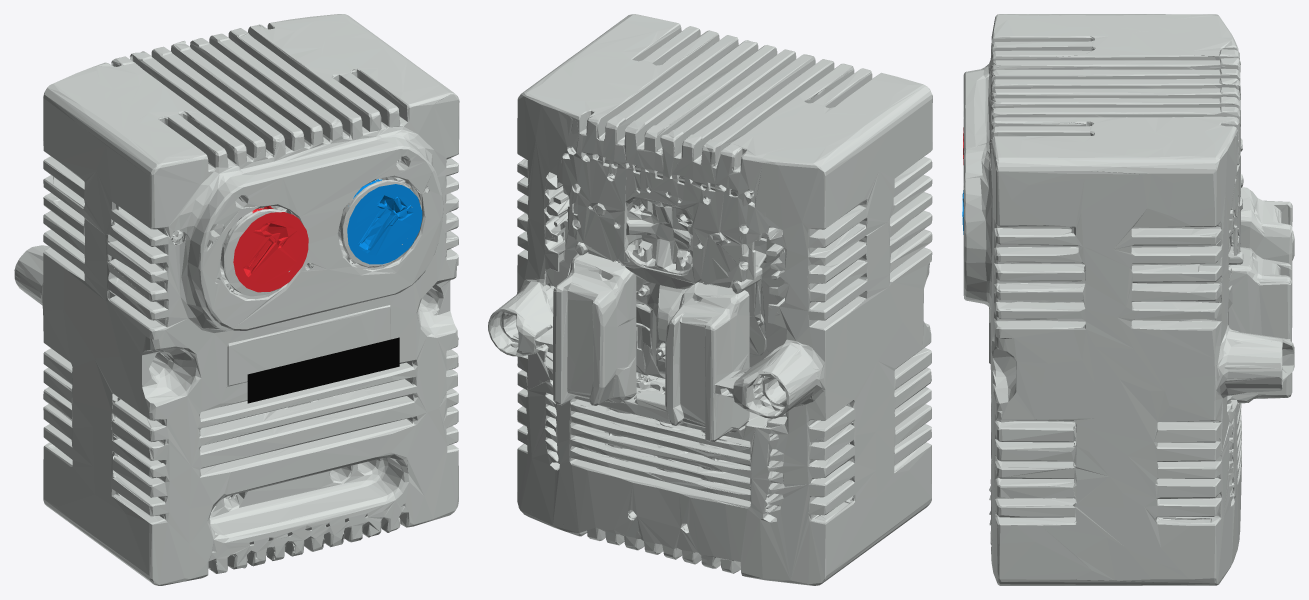
File: thermostat_colored_web.glb
3 views of the same model, side by side, from view 1: azimuth 30°, elevation 25°; view 2: azimuth 150°, elevation 25°; view 3: azimuth 270°, elevation 25° (orthographic).
Parts seen in each view (by area): view 1: Mesh1.0; view 2: Mesh1.0; view 3: Mesh1.0.
Part boxes in pixels (x1,y1,x2,y2): Mesh1.0: [14, 14, 459, 585]; Mesh1.0: [488, 14, 932, 585]; Mesh1.0: [962, 14, 1294, 585].
Size of the model in its own units: 1.44 by 1.9 by 1.33.
